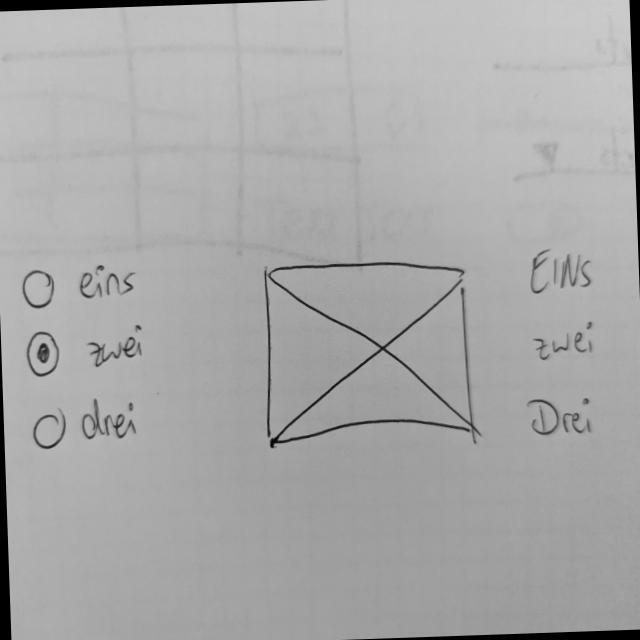image: (259, 257, 476, 452)
label: (525, 242, 600, 304), (525, 394, 598, 439), (532, 318, 598, 364)
radio: (26, 321, 62, 379), (21, 258, 58, 313), (30, 405, 67, 454)
